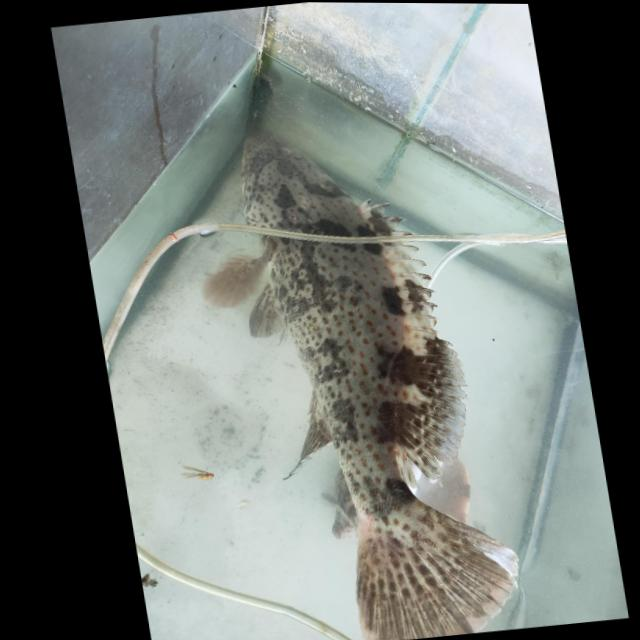Groupers: (175, 120, 525, 640)
